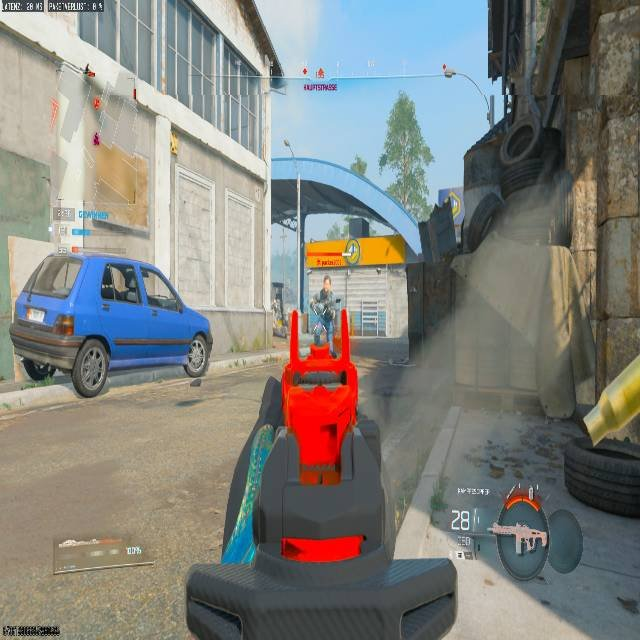head: (318, 277, 329, 293), (321, 276, 332, 291)
player: (309, 276, 342, 347)
